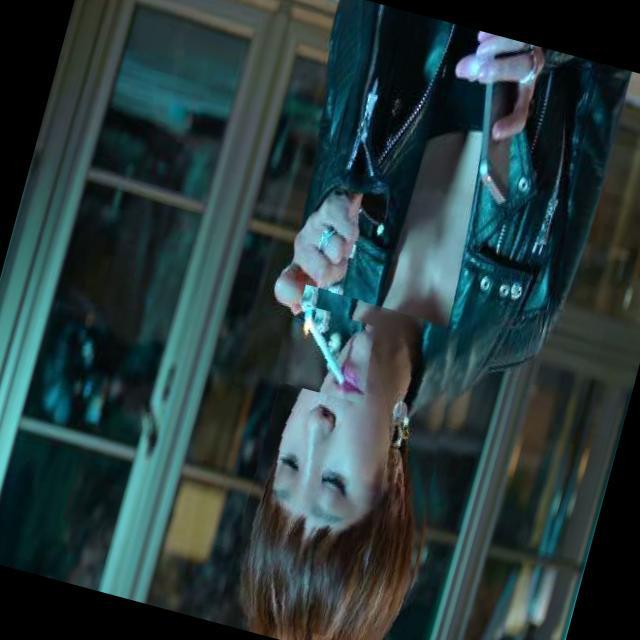cigarette: (272, 300, 384, 405)
